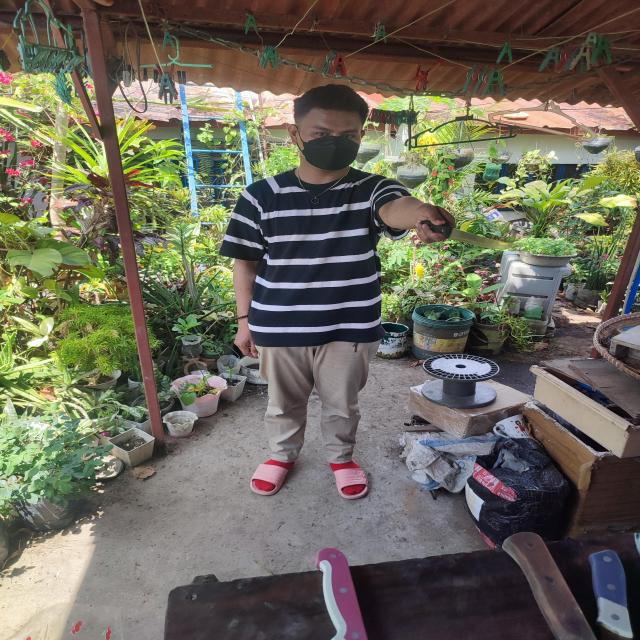knife: (420, 220, 518, 250)
